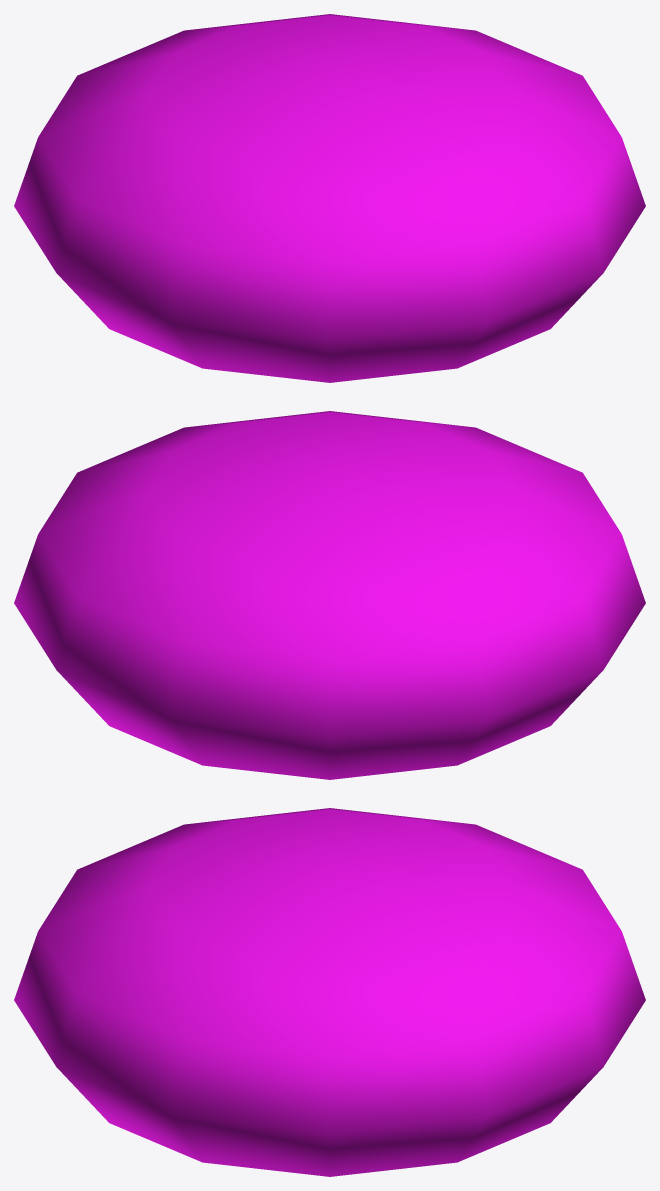
File: violetPaint.glb
The picture shows the model from 3 angles, top to bottom: view 1: azimuth 30°, elevation 25°; view 2: azimuth 150°, elevation 25°; view 3: azimuth 270°, elevation 25°; orthographic projection.
Visible parts, largest first — view 1: violetPaintBlob; view 2: violetPaintBlob; view 3: violetPaintBlob.
Part boxes in pixels (x1=…): violetPaintBlob: x1=14, y1=14, x2=645, y2=382; violetPaintBlob: x1=14, y1=411, x2=645, y2=779; violetPaintBlob: x1=14, y1=808, x2=645, y2=1176.
Bounding box in the file's own units: 0.9923 × 0.4082 × 0.9923.
1 material, 1 textured.
